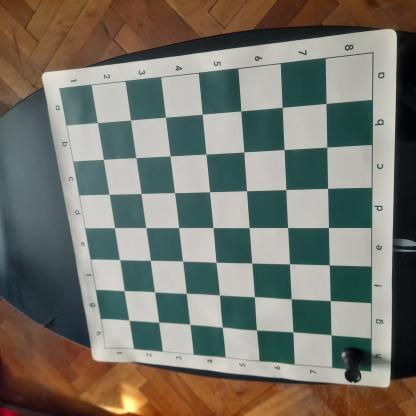black-rook: (339, 347, 368, 384)
